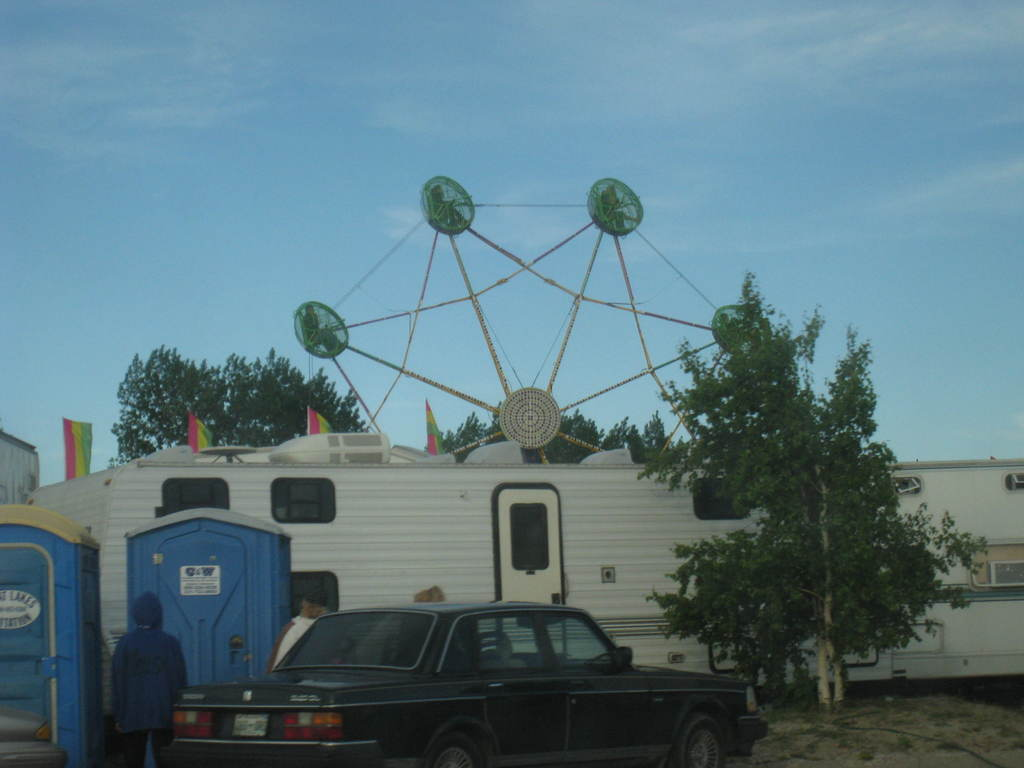mobil: (162, 599, 774, 768)
